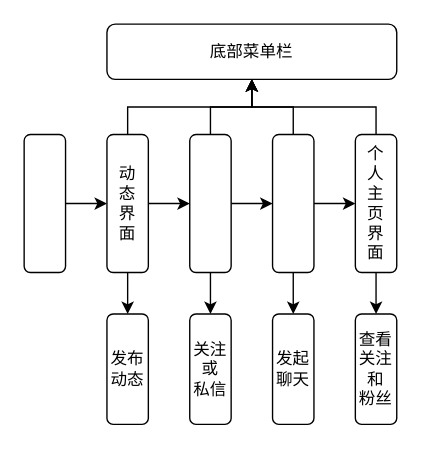
Some shapes in this 421 by 449 pixel diagram are drawn without their labels. Here are the shapes that lost their labels. From the top down, the box of each, then its label:
(23, 133, 66, 273): 登 录 界 面
(188, 133, 231, 273): 主 页 界 面
(271, 133, 314, 273): 聊 天 界 面
